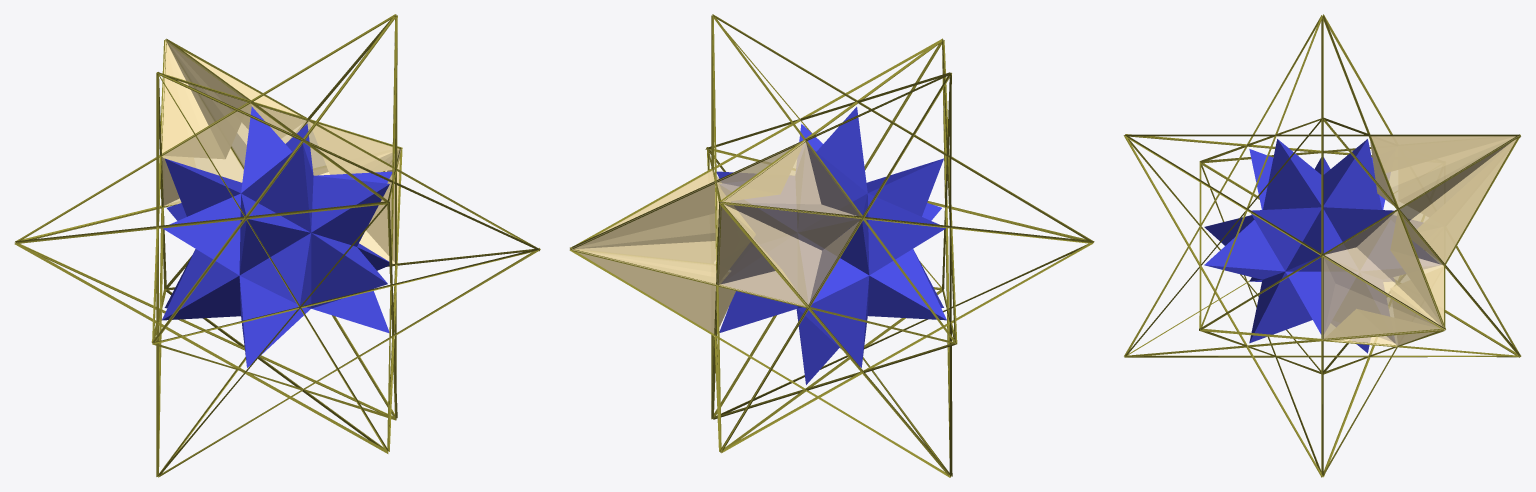
Rendered from dualidad3.glb.
3 views of the same model, side by side, from view 1: azimuth 30°, elevation 25°; view 2: azimuth 150°, elevation 25°; view 3: azimuth 270°, elevation 25° (orthographic). The views are drawn at different scales.
Visible parts, largest first — view 1: Solid.004, Solid.012, Solid.006; view 2: Solid.004, Solid.006, Solid.012; view 3: Solid.004, Solid.006, Solid.012.
Boxes of the visible parts, left/top/right/bottom form: Solid.004: left=162, top=106, right=392, bottom=367; Solid.012: left=14, top=14, right=540, bottom=477; Solid.006: left=161, top=40, right=400, bottom=264; Solid.004: left=716, top=106, right=946, bottom=384; Solid.006: left=570, top=140, right=862, bottom=335; Solid.012: left=569, top=14, right=1094, bottom=477; Solid.004: left=1204, top=139, right=1439, bottom=353; Solid.006: left=1322, top=136, right=1518, bottom=346; Solid.012: left=1123, top=14, right=1521, bottom=477.
Size of the model in its own units: 6.79 by 6.78 by 6.78.
